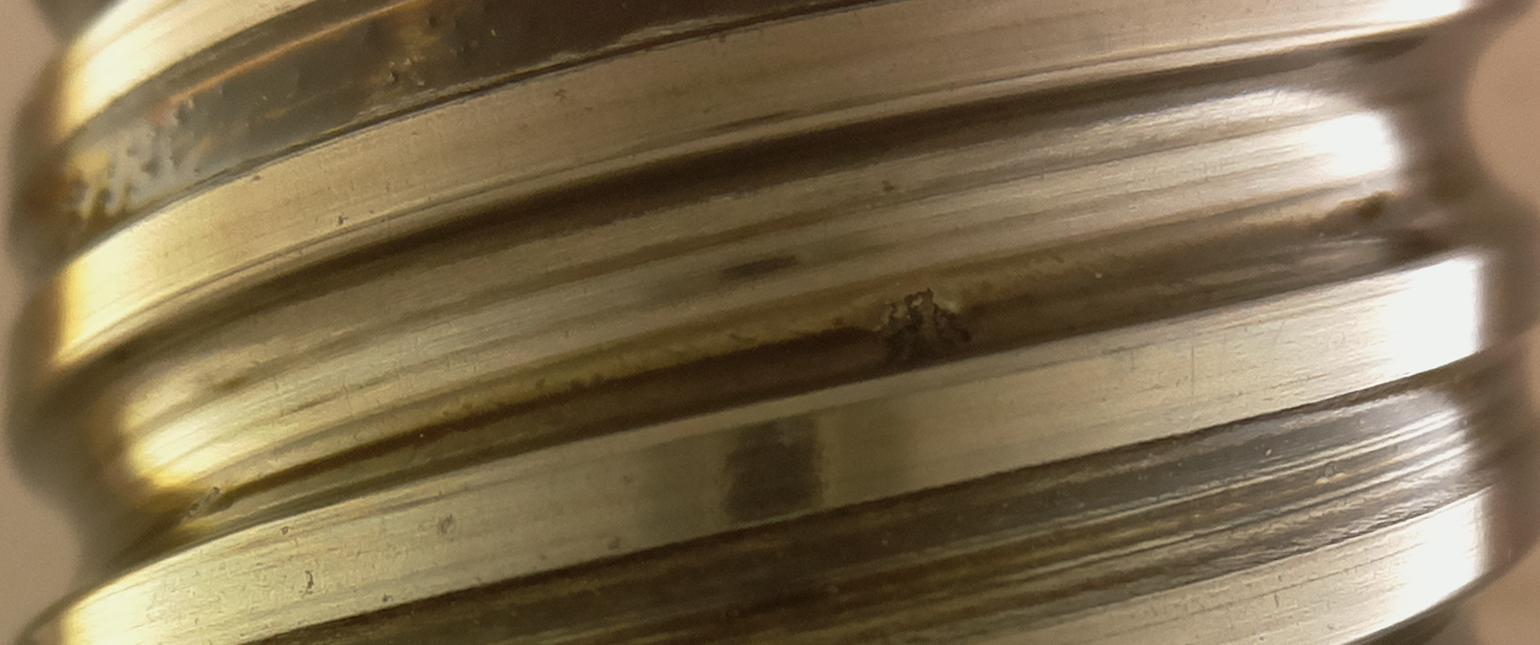pitting: (860, 287, 977, 380)
